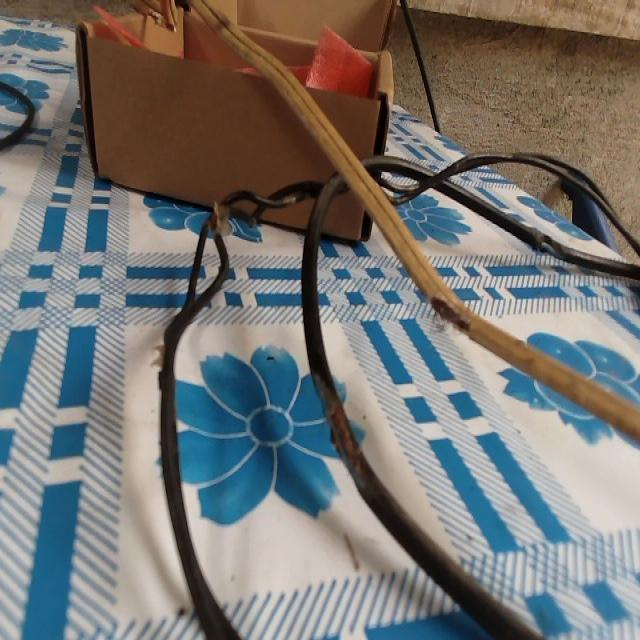-: (312, 375, 368, 492), (428, 295, 472, 336)
